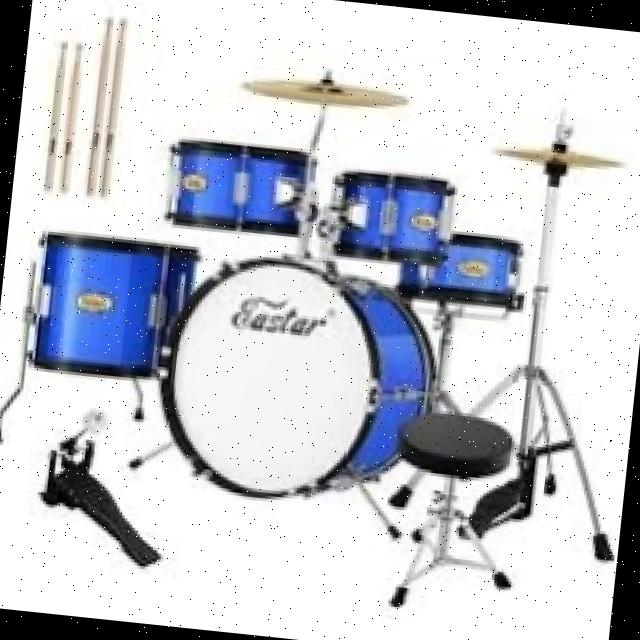drums: (8, 35, 635, 532)
